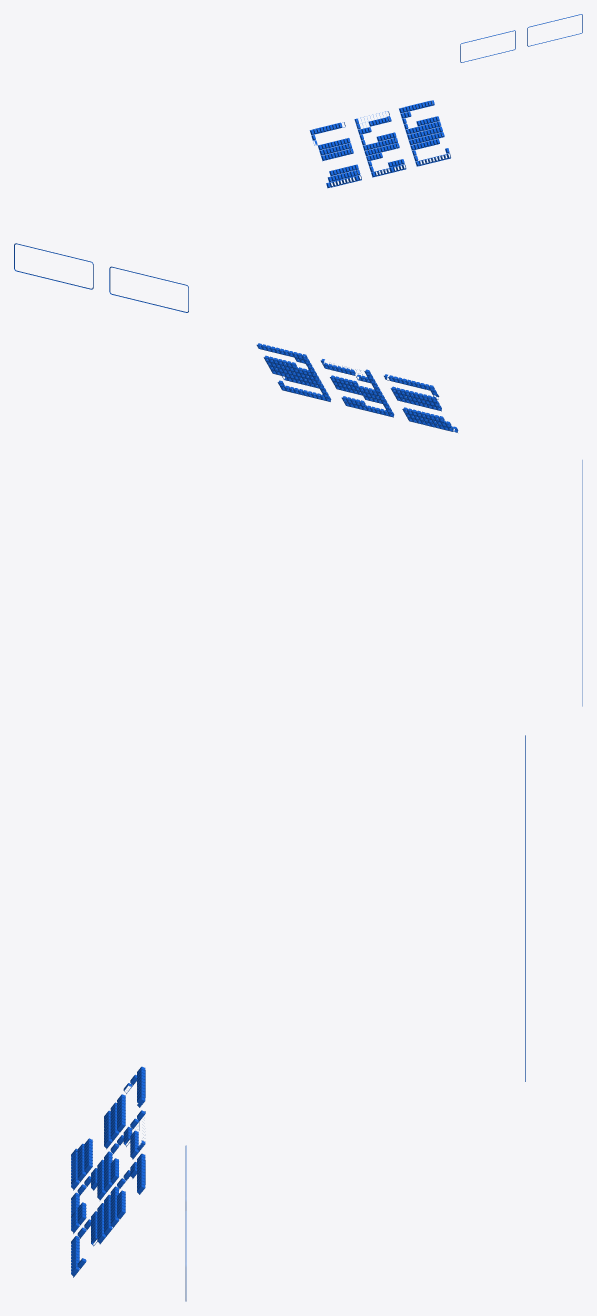
3 views of the same model, one above another, from view 1: azimuth 30°, elevation 25°; view 2: azimuth 150°, elevation 25°; view 3: azimuth 270°, elevation 25° (orthographic). The views are drawn at different scales.
Visible parts, largest first — view 1: Object_25; view 2: Object_25; view 3: Object_25.
Boxes of the visible parts, x1,y1,x2,y2 form: Object_25: (309, 14, 582, 188); Object_25: (14, 243, 582, 706); Object_25: (71, 735, 525, 1301).
Size of the model in its own units: 2.01 by 0.6876 by 0.8173.
